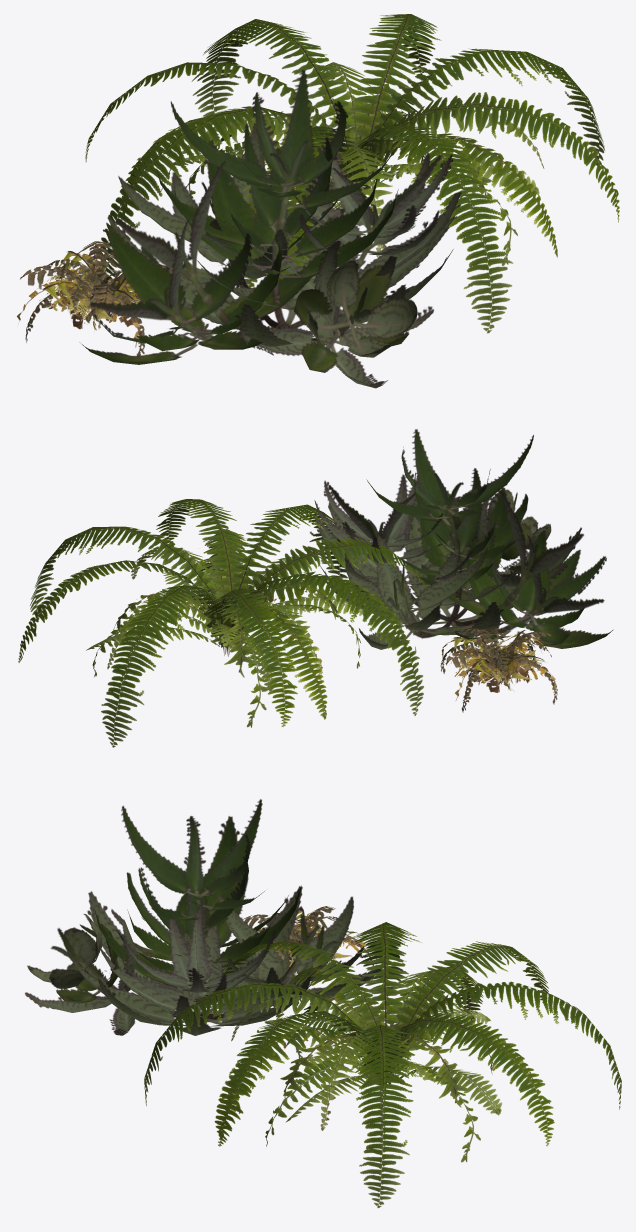
File: multi-plants.gltf
The picture shows the model from 3 angles, top to bottom: view 1: azimuth 30°, elevation 25°; view 2: azimuth 150°, elevation 25°; view 3: azimuth 270°, elevation 25°; orthographic projection. The views are drawn at different scales.
Visible parts, largest first — view 1: Leaf 010_Plant 1_0, Leaf 1_Plant 1_0, Leaf 014_Plant 1_0, Leaf 011_Plant 1_0, Leaf 013_Plant 1_0, Leaf 009_Plant 1_0, Leaf 015_Plant 1_0, Leaf023_Material #25_0, Leaf12_Material #25_0, Leaf 012_Plant 1_0, Vorlage005_Material #25_0, Leaf021_Material #25_0 (+55 smaller); view 2: Leaf 1_Plant 1_0, Leaf 012_Plant 1_0, Leaf 011_Plant 1_0, Leaf 009_Plant 1_0, Leaf 014_Plant 1_0, Leaf 2_Plant 1_0, Leaf 010_Plant 1_0, Leaf 6_Plant 1_0, Leaf 013_Plant 1_0, Leaf023_Material #25_0, Leaf056_Material #25_0, Vorlage005_Material #25_0 (+42 smaller); view 3: Leaf 009_Plant 1_0, Leaf 013_Plant 1_0, Leaf 012_Plant 1_0, Leaf 014_Plant 1_0, Leaf 010_Plant 1_0, Leaf 011_Plant 1_0, Leaf 1_Plant 1_0, Leaf 2_Plant 1_0, Leaf057_Material #25_0, Leaf 015_Plant 1_0, Leaf 5_Plant 1_0, Leaf058_Material #25_0 (+35 smaller).
Part boxes in pixels (x1,y1,x2,y2): Leaf 010_Plant 1_0: (346, 125, 513, 333); Leaf 1_Plant 1_0: (191, 19, 354, 161); Leaf 014_Plant 1_0: (355, 92, 619, 222); Leaf 011_Plant 1_0: (100, 106, 348, 278); Leaf 013_Plant 1_0: (350, 14, 441, 181); Leaf 009_Plant 1_0: (359, 48, 604, 165); Leaf 015_Plant 1_0: (360, 133, 557, 257); Leaf023_Material #25_0: (116, 161, 240, 330); Leaf12_Material #25_0: (107, 225, 189, 324); Leaf 012_Plant 1_0: (85, 62, 341, 162); Vorlage005_Material #25_0: (89, 219, 213, 339); Leaf021_Material #25_0: (270, 69, 315, 190); Leaf 1_Plant 1_0: (101, 585, 228, 747); Leaf 012_Plant 1_0: (205, 588, 297, 726); Leaf 011_Plant 1_0: (225, 571, 424, 715); Leaf 009_Plant 1_0: (29, 526, 224, 655); Leaf 014_Plant 1_0: (156, 499, 246, 607); Leaf 2_Plant 1_0: (228, 537, 427, 649); Leaf 010_Plant 1_0: (225, 504, 347, 654); Leaf 6_Plant 1_0: (228, 603, 327, 719); Leaf 013_Plant 1_0: (18, 560, 211, 662); Leaf023_Material #25_0: (457, 488, 583, 625); Leaf056_Material #25_0: (412, 429, 456, 525); Vorlage005_Material #25_0: (452, 534, 604, 634); Leaf 009_Plant 1_0: (343, 1025, 418, 1207); Leaf 013_Plant 1_0: (376, 1012, 554, 1146); Leaf 012_Plant 1_0: (386, 941, 548, 1083); Leaf 014_Plant 1_0: (217, 1011, 376, 1146); Leaf 010_Plant 1_0: (144, 982, 376, 1105); Leaf 011_Plant 1_0: (348, 922, 421, 1091); Leaf 1_Plant 1_0: (385, 981, 621, 1109); Leaf 2_Plant 1_0: (216, 941, 385, 1039); Leaf057_Material #25_0: (121, 805, 199, 897); Leaf 015_Plant 1_0: (214, 1027, 379, 1138); Leaf 5_Plant 1_0: (320, 1035, 379, 1130); Leaf058_Material #25_0: (200, 799, 262, 897).
Bounding box in the file's own units: 135 × 58.22 × 133.
2 materials, 2 textured.
